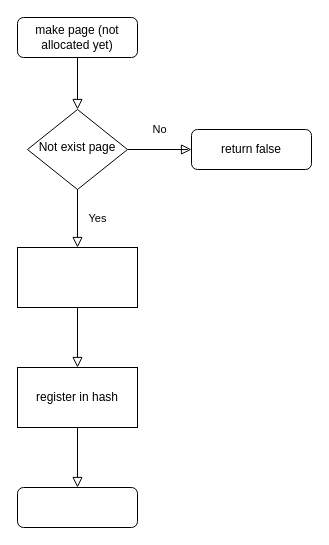
Some shapes in this 329 by 545 pixel diagram are drawn without their labels. Each missing label, with the centre of its shape:
malloc page and initialize page: the point at 77,277
return true: the point at 77,507
